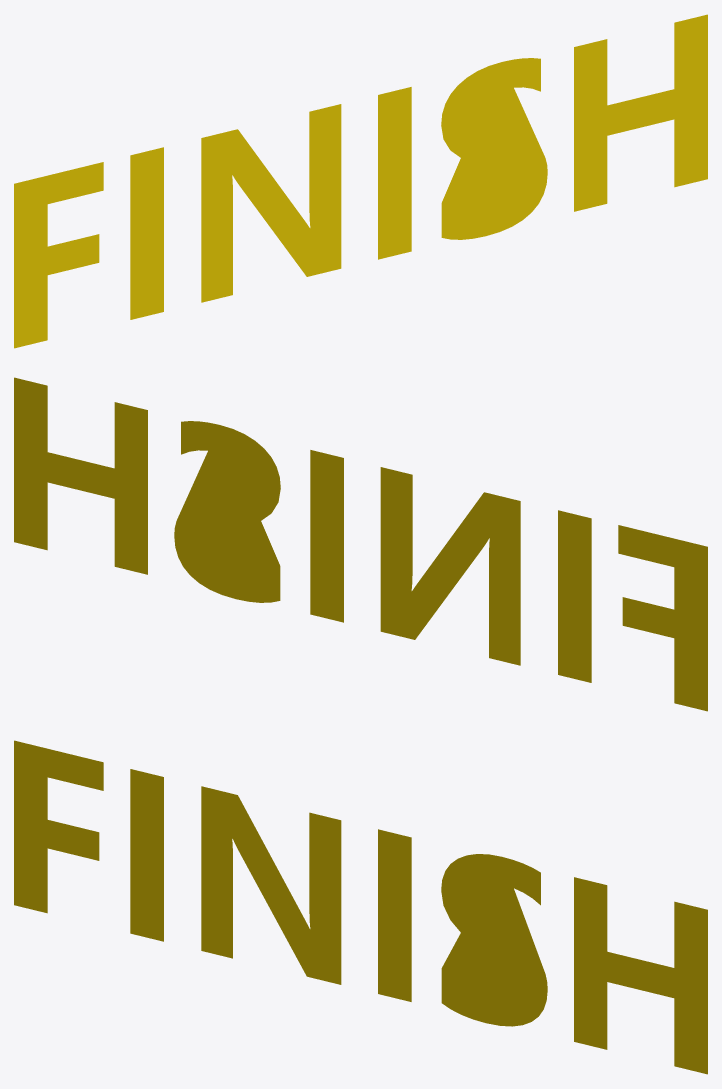
File: Finish letras.fbx
3 views of the same model, one above another, from view 1: azimuth 30°, elevation 25°; view 2: azimuth 150°, elevation 25°; view 3: azimuth 330°, elevation 25° (orthographic).
Visible parts, largest first — view 1: Finish_letras; view 2: Finish_letras; view 3: Finish_letras.
Part boxes in pixels (x1,y1,x2,y2): Finish_letras: [14, 14, 707, 348]; Finish_letras: [14, 377, 707, 711]; Finish_letras: [14, 740, 707, 1074].
Size of the model in its own units: 119 by 28 by 0.
1 material, 1 textured.
